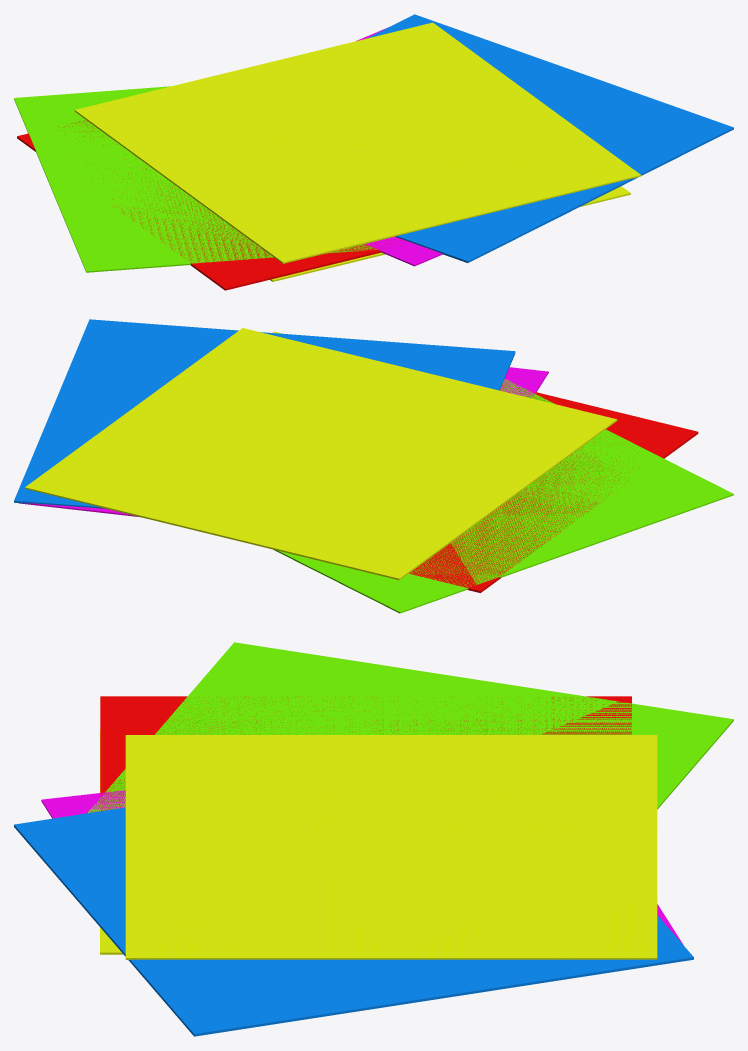
File: postit-transformed.glb
3 renders of one model, top to bottom at view 1: azimuth 30°, elevation 25°; view 2: azimuth 150°, elevation 25°; view 3: azimuth 270°, elevation 25°, orthographic. The views are drawn at different scales.
Visible parts, largest first — view 1: Object_7, Object_4; view 2: Object_7, Object_4; view 3: Object_7, Object_4.
Part boxes in pixels (x1,y1,x2,y2): Object_7: (74,22,641,281); Object_4: (14,14,733,290); Object_7: (25,328,617,580); Object_4: (14,319,733,613); Object_7: (100,730,657,959); Object_4: (14,642,733,1036).
Size of the model in its own units: 914471 by 10174 by 707083.
2 materials, 2 textured.
